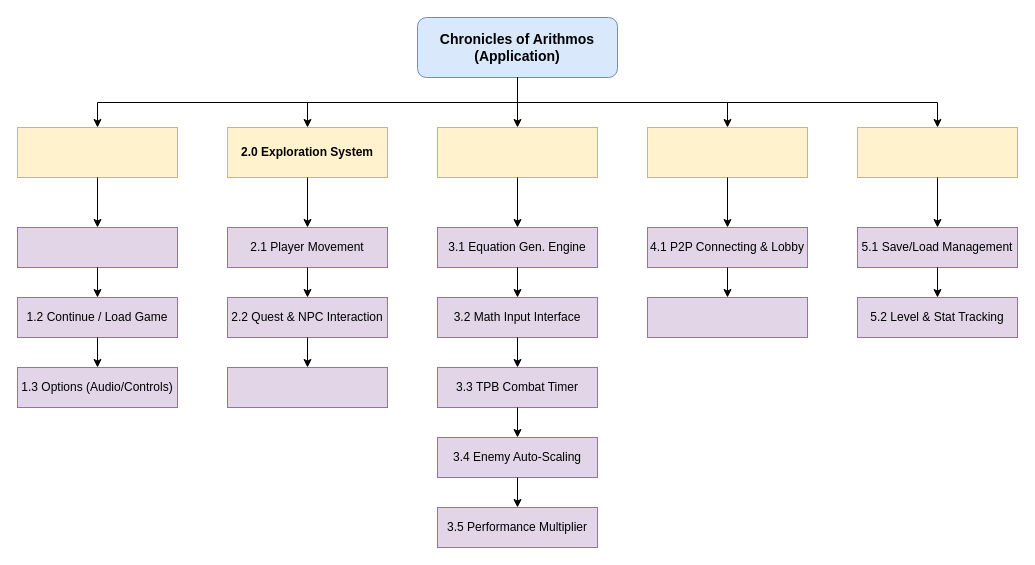
The diagram is 1035 pixels wide and 565 high, and some of its shapes have lost their labels. The shapes that lost their labels are listed below. From the top down, each one's centre as x and y in pixels, then its label:
At (x=97, y=152): "1.0 Main Menu System".
At (x=517, y=152): "3.0 Math Battle System".
At (x=727, y=152): "4.0 Multiplayer System".
At (x=937, y=152): "5.0 Data & Progression".
At (x=97, y=247): "1.1 Start New Game".
At (x=727, y=317): "4.2 Party Event Sync".
At (x=307, y=387): "2.3 Pause Menu & Inventory".
